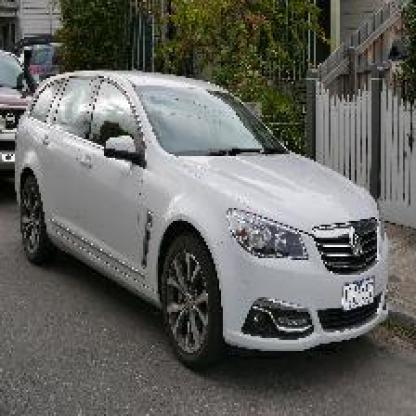not_emergency: (11, 54, 403, 390)
